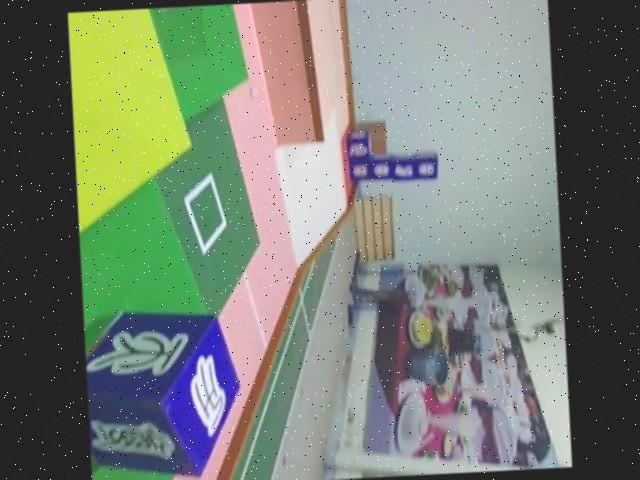R2 Fake Blue: (83, 305, 246, 480)
